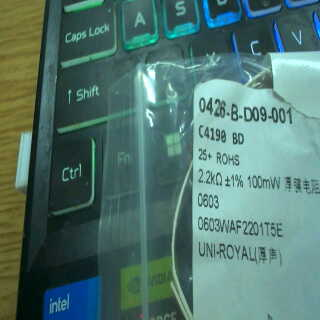2.2kR: (193, 164, 226, 187)
